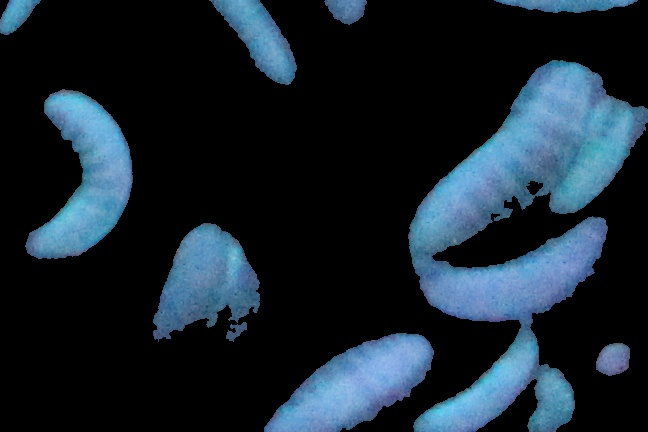larvae: (410, 60, 601, 241), (14, 89, 132, 266), (255, 329, 431, 432), (419, 220, 605, 317), (138, 226, 225, 396), (416, 329, 546, 431), (551, 99, 646, 215), (197, 1, 301, 87), (1, 1, 55, 35)
